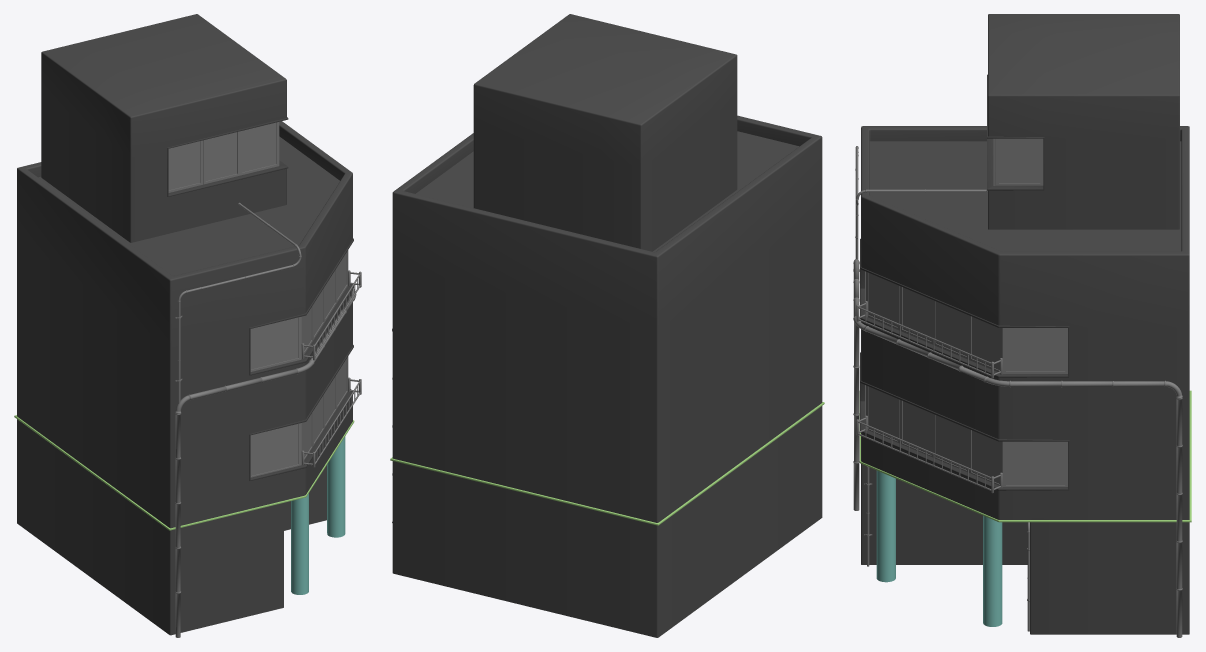
File: SM_building_corner_03.fbx
The picture shows the model from 3 angles, left to right: view 1: azimuth 30°, elevation 25°; view 2: azimuth 150°, elevation 25°; view 3: azimuth 270°, elevation 25°; orthographic projection. The views are drawn at different scales.
Parts seen in each view (by area): view 1: Object1284394; view 2: Object1284394; view 3: Object1284394.
Part boxes in pixels (x1,y1,x2,y2): Object1284394: (14, 14, 361, 637); Object1284394: (390, 14, 824, 637); Object1284394: (853, 14, 1191, 637).
Size of the model in its own units: 317 by 561 by 342.
